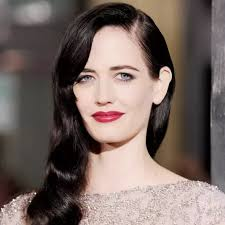white_female: (63, 33, 148, 144)
